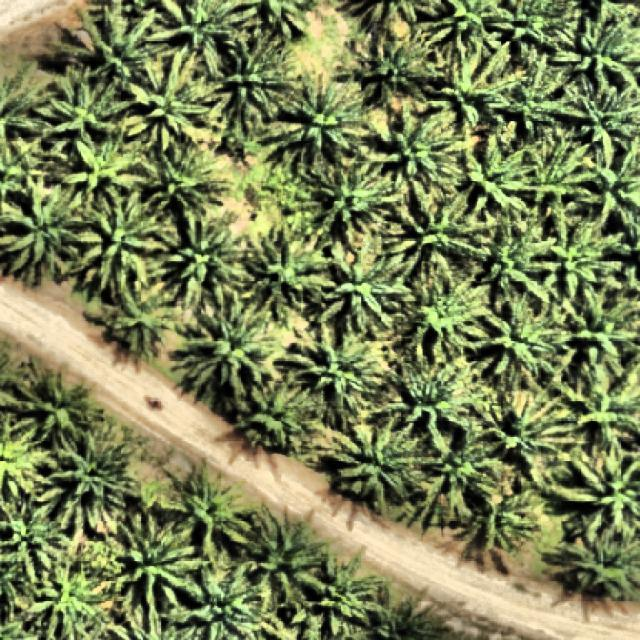Kelapa_Sawit: (172, 287, 282, 415), (272, 312, 394, 420), (268, 64, 377, 181), (68, 186, 176, 302), (380, 179, 497, 281), (34, 430, 144, 538), (375, 344, 480, 456), (242, 498, 338, 618), (107, 510, 210, 618), (210, 24, 302, 144), (373, 99, 481, 199), (316, 420, 424, 518), (478, 386, 586, 484), (394, 259, 494, 364), (156, 208, 258, 310), (238, 219, 338, 321), (33, 65, 138, 158), (120, 47, 212, 153), (537, 208, 628, 314), (422, 418, 504, 534), (290, 543, 388, 640), (3, 351, 102, 447), (336, 26, 447, 111), (170, 454, 259, 560), (302, 157, 404, 246), (476, 206, 561, 312), (498, 50, 596, 141), (434, 38, 530, 130), (470, 292, 559, 386), (459, 474, 553, 562), (136, 136, 232, 221), (22, 554, 116, 640), (229, 372, 317, 463), (557, 286, 640, 382), (313, 250, 409, 332), (64, 121, 142, 214), (460, 128, 540, 218), (523, 127, 600, 210), (104, 282, 178, 362)
